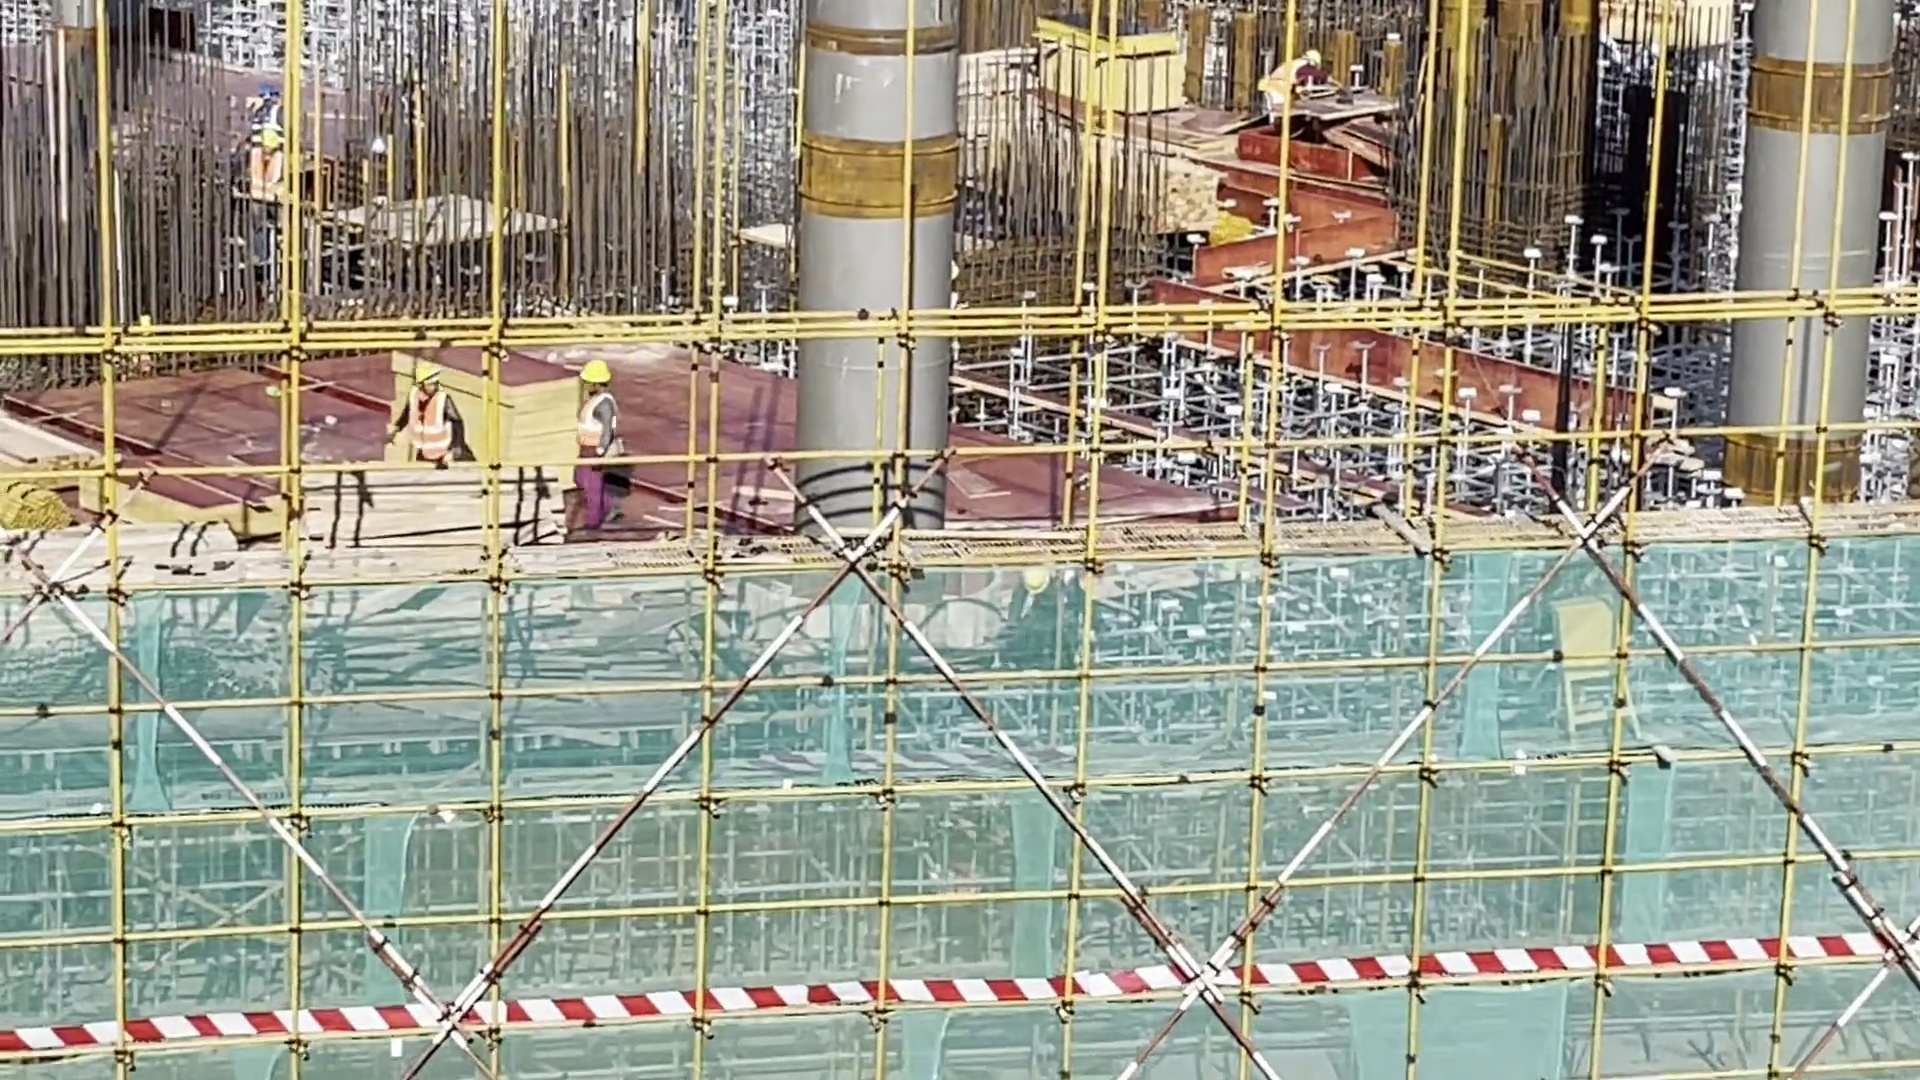ebox: (1538, 589, 1665, 761)
helmet: (576, 359, 615, 390), (251, 120, 284, 154), (412, 353, 437, 387), (1298, 42, 1322, 66)
person: (385, 365, 472, 500), (577, 356, 621, 523), (238, 123, 288, 262), (1258, 41, 1322, 125)
vest: (406, 392, 462, 464), (579, 393, 627, 451), (244, 153, 286, 200), (1267, 60, 1307, 104)
